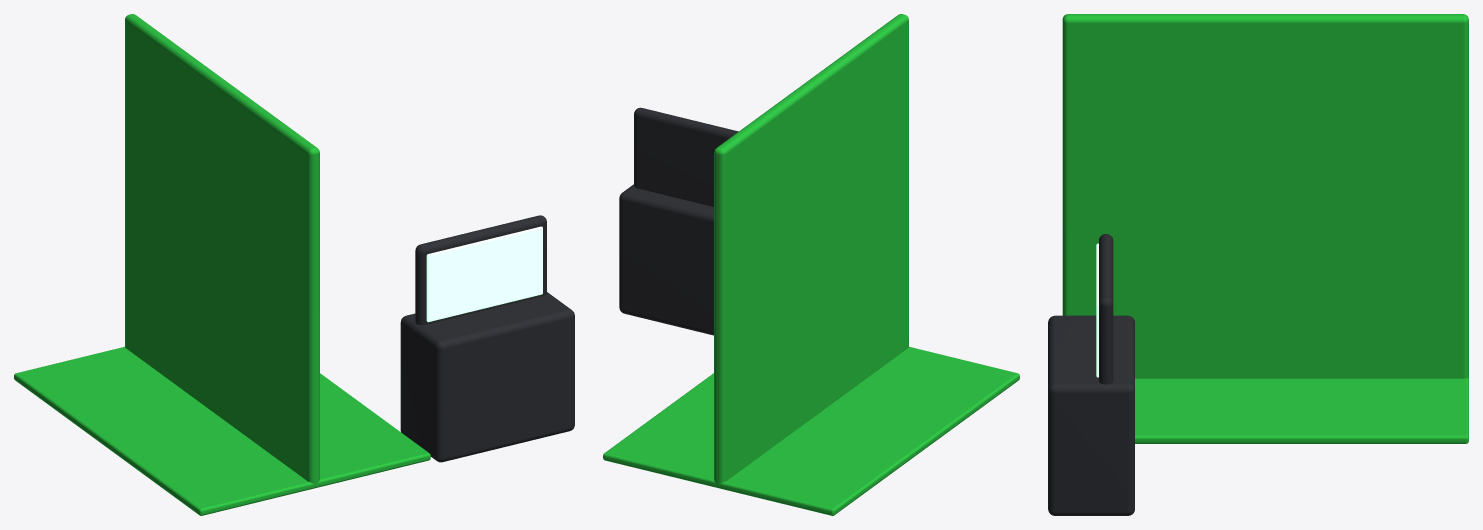
Rendered from podcast_studio__green_screen.glb.
The picture shows the model from 3 angles, left to right: view 1: azimuth 30°, elevation 25°; view 2: azimuth 150°, elevation 25°; view 3: azimuth 270°, elevation 25°; orthographic projection. The views are drawn at different scales.
Visible parts, largest first — view 1: Set, Flat_002, Glow; view 2: Set, Flat_002; view 3: Set, Flat_002.
Boxes of the visible parts, <box> form: Set: <box>125,14,574,484</box>; Flat_002: <box>14,346,430,515</box>; Glow: <box>426,226,542,322</box>; Set: <box>619,14,908,484</box>; Flat_002: <box>603,347,1019,515</box>; Set: <box>1048,14,1468,515</box>; Flat_002: <box>1135,378,1468,443</box>.
Size of the model in its own units: 3.2 by 2.8 by 2.9.
